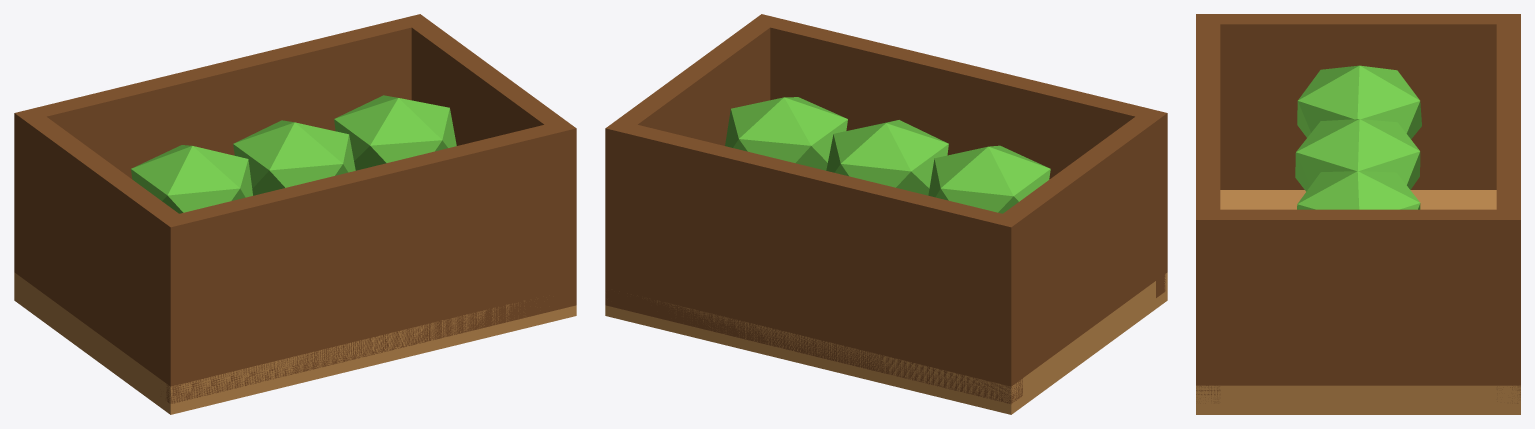
File: hydro_harvest_crate.glb
3 views of the same model, side by side, from view 1: azimuth 30°, elevation 25°; view 2: azimuth 150°, elevation 25°; view 3: azimuth 270°, elevation 25° (orthographic). The views are drawn at different scales.
Parts seen in each view (by area): view 1: harvest_crate; view 2: harvest_crate; view 3: harvest_crate.
Part boxes in pixels (x1,y1,x2,y2): harvest_crate: [14, 14, 576, 414]; harvest_crate: [605, 14, 1167, 414]; harvest_crate: [1196, 14, 1520, 414].
Bounding box in the file's own units: 0.6 × 0.265 × 0.4.
